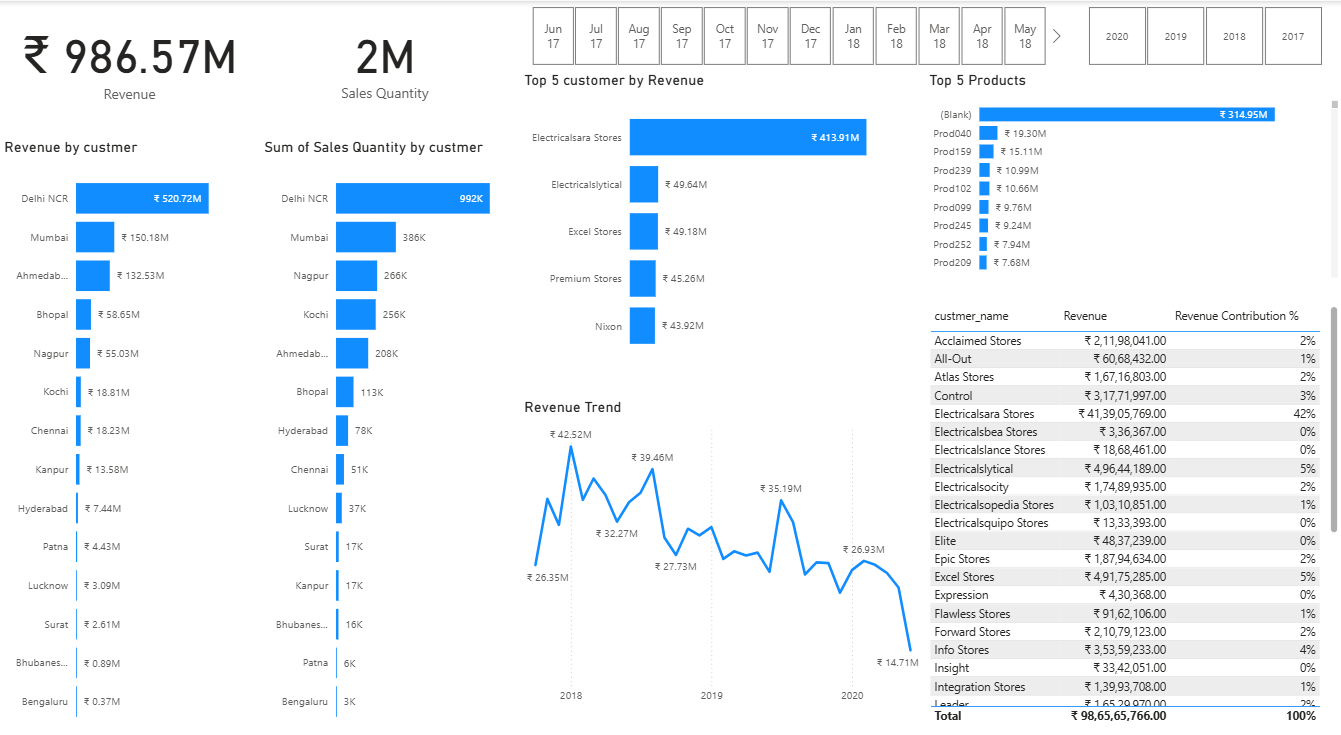

Layout of this report page (visuals, bound fields, positions):
{"tool":"powerbi","page":{"name":"Sales_Revenue_Insight","canvas":[1550,850],"ordinal":0},"visuals":[{"type":"card","fields":{"Values":["Base Measure.Revenue"]},"box":[0,0,299.6,136],"z":0},{"type":"card","fields":{"Values":["Base Measure.Sales Quantity"]},"box":[300.3,0,288.7,135.7],"z":1000},{"type":"slicer","fields":{"Values":["sales date.year"]},"box":[1231.4,0,319,80.8],"z":2000},{"type":"slicer","fields":{"Values":["sales date.cy_date"]},"box":[589,0,642.4,80.8],"z":3000},{"type":"barChart","title":"Revenue by custmer","fields":{"Y":["Base Measure.Revenue"],"Category":["sales markets.markets_name"]},"box":[0,158.8,300.3,691.5],"z":4000},{"type":"barChart","title":"Sum of Sales Quantity by custmer","fields":{"Y":["Base Measure.Sales Quantity"],"Category":["sales markets.markets_name"]},"box":[300.3,158.8,300.3,691.5],"z":5000},{"type":"barChart","title":"Top 5 customer by Revenue","fields":{"Y":["Base Measure.Revenue"],"Category":["sales customers.custmer_name"]},"box":[600.5,80.8,467.7,343.6],"z":6000},{"type":"barChart","title":"Top 5 Products","fields":{"Y":["Base Measure.Revenue"],"Category":["sales products.product_code"]},"box":[1068.3,80.8,482.2,244],"z":7000},{"type":"lineChart","title":"Revenue Trend","fields":{"Y":["Base Measure.Revenue"],"Category":["sales date.cy_date.Variation.Date Hierarchy.Year","sales date.cy_date.Variation.Date Hierarchy.Quarter","sales date.cy_date.Variation.Date Hierarchy.Month","sales date.cy_date.Variation.Date Hierarchy.Day"]},"box":[600.5,459.1,469.2,360.9],"z":8000},{"type":"tableEx","title":"Top 5 customer by Revenue","fields":{"Values":["sales customers.custmer_name","Base Measure.Revenue","Base Measure.Revenue Distribution %"]},"box":[1068.3,347.9,482.2,492.3],"z":9000}]}

Visuals, with their boxes in screenshot pixels (x1, y1, x2, y2), scaled from the page's 1550x850 canvas onto the 1341x735 screenshot:
card - Base Measure.Revenue: {"x1": 0, "y1": 0, "x2": 259, "y2": 118}
card - Base Measure.Sales Quantity: {"x1": 260, "y1": 0, "x2": 510, "y2": 117}
slicer - sales date.year: {"x1": 1065, "y1": 0, "x2": 1340, "y2": 70}
slicer - sales date.cy_date: {"x1": 510, "y1": 0, "x2": 1065, "y2": 70}
"Revenue by custmer" barChart: {"x1": 0, "y1": 137, "x2": 260, "y2": 734}
"Sum of Sales Quantity by custmer" barChart: {"x1": 260, "y1": 137, "x2": 520, "y2": 734}
"Top 5 customer by Revenue" barChart: {"x1": 520, "y1": 70, "x2": 924, "y2": 367}
"Top 5 Products" barChart: {"x1": 924, "y1": 70, "x2": 1340, "y2": 281}
"Revenue Trend" lineChart: {"x1": 520, "y1": 397, "x2": 925, "y2": 709}
"Top 5 customer by Revenue" tableEx: {"x1": 924, "y1": 301, "x2": 1340, "y2": 727}
